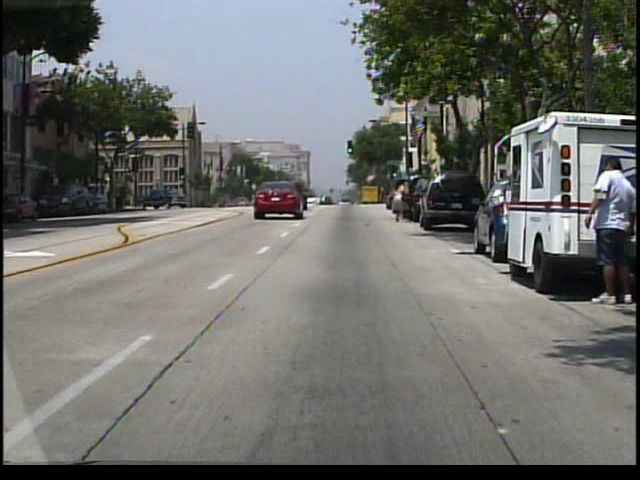person: (582, 159, 630, 306), (388, 177, 411, 224)
